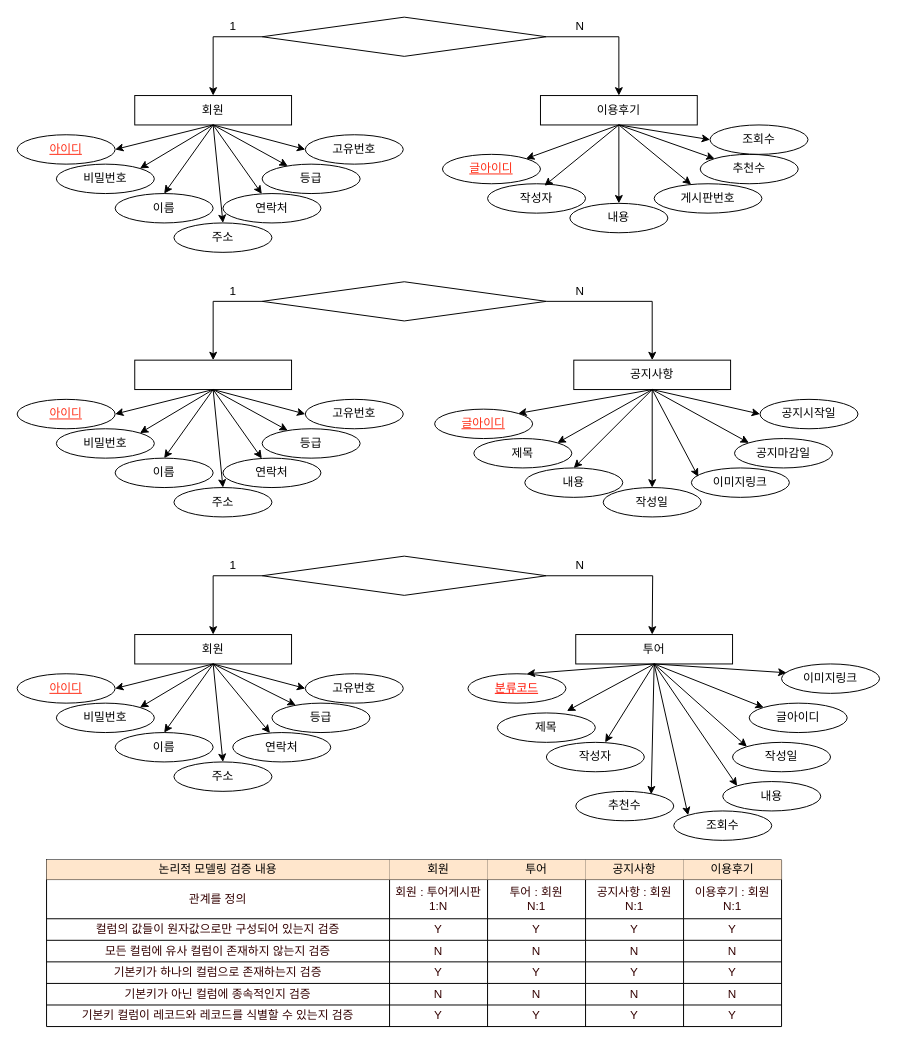
Some shapes in this 897 by 1044 pixel diagram are drawn without their labels. Each missing label, with the box of its shape:
회원 : 공지사항: (261, 281, 546, 321)
회원 : 이용후기: (261, 16, 546, 56)
회원 : 투어: (261, 555, 546, 595)
회원(admin): (134, 359, 292, 390)
